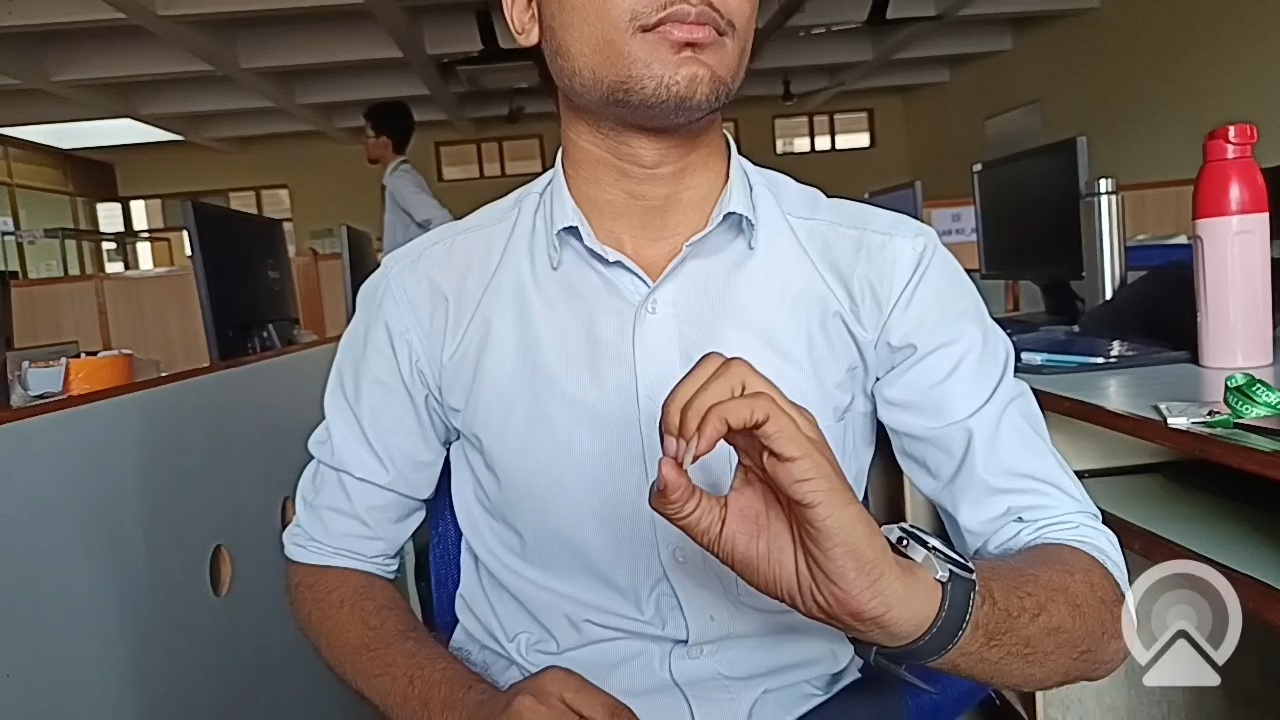O: (619, 317, 914, 675)
